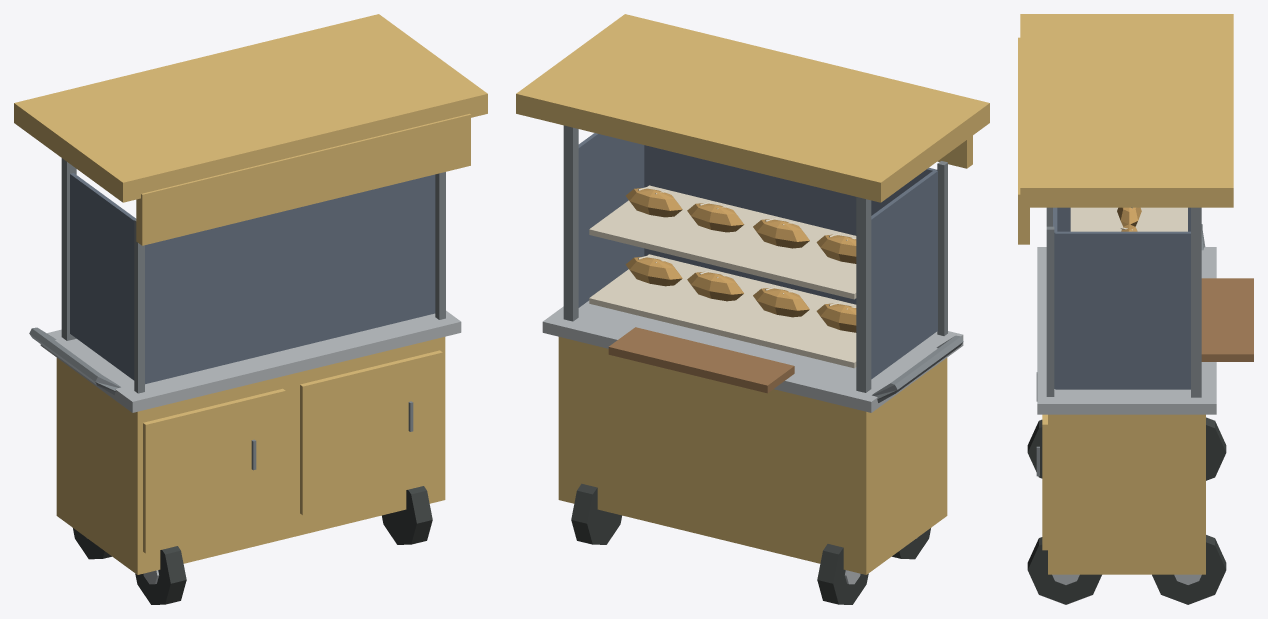
File: BanhMiCart.glb
3 renders of one model, left to right at view 1: azimuth 30°, elevation 25°; view 2: azimuth 150°, elevation 25°; view 3: azimuth 270°, elevation 25°, orthographic. The views are drawn at different scales.
Parts seen in each view (by area): view 1: ST_BanhMiCart_ST_yellow.001, ST_BanhMiCart_PBK_Indochine_glass.001, ST_BanhMiCart_ST_steel.001, ST_BanhMiCart_PBK_Indochine_metal.001, ST_BanhMiCart_ST_black.001; view 2: ST_BanhMiCart_ST_yellow.001, ST_BanhMiCart_PBK_Indochine_glass.001, ST_BanhMiCart_ST_cream.001, ST_BanhMiCart_ST_steel.001, ST_BanhMiCart_PBK_Indochine_metal.001, ST_BanhMiCart_ST_bread.001, ST_Prep_Board.001, ST_BanhMiCart_ST_black.001; view 3: ST_BanhMiCart_ST_yellow.001, ST_BanhMiCart_PBK_Indochine_glass.001, ST_BanhMiCart_ST_steel.001, ST_BanhMiCart_ST_black.001, ST_Prep_Board.001, ST_BanhMiCart_PBK_Indochine_metal.001, ST_BanhMiCart_ST_cream.001, ST_BanhMiCart_ST_bread.001.
Part boxes in pixels (x1,y1,x2,y2): ST_BanhMiCart_ST_yellow.001: (14, 14, 487, 574); ST_BanhMiCart_PBK_Indochine_glass.001: (70, 173, 435, 384); ST_BanhMiCart_ST_steel.001: (40, 310, 461, 584); ST_BanhMiCart_PBK_Indochine_metal.001: (29, 158, 445, 470); ST_BanhMiCart_ST_black.001: (73, 486, 432, 604); ST_BanhMiCart_ST_yellow.001: (516, 14, 989, 574); ST_BanhMiCart_PBK_Indochine_glass.001: (578, 133, 937, 379); ST_BanhMiCart_ST_cream.001: (589, 185, 856, 368); ST_BanhMiCart_ST_steel.001: (542, 300, 963, 584); ST_BanhMiCart_PBK_Indochine_metal.001: (563, 125, 963, 402); ST_BanhMiCart_ST_bread.001: (625, 188, 856, 332); ST_Prep_Board.001: (608, 327, 794, 393); ST_BanhMiCart_ST_black.001: (571, 483, 930, 604); ST_BanhMiCart_ST_yellow.001: (1018, 14, 1233, 574); ST_BanhMiCart_PBK_Indochine_glass.001: (1053, 207, 1190, 389); ST_BanhMiCart_ST_steel.001: (1037, 247, 1216, 584); ST_BanhMiCart_ST_black.001: (1027, 417, 1226, 604); ST_Prep_Board.001: (1201, 278, 1253, 361); ST_BanhMiCart_PBK_Indochine_metal.001: (1036, 207, 1205, 476); ST_BanhMiCart_ST_cream.001: (1070, 207, 1187, 231); ST_BanhMiCart_ST_bread.001: (1117, 207, 1141, 231).
Bounding box in the file's own units: 1.72 × 2.04 × 0.985.
